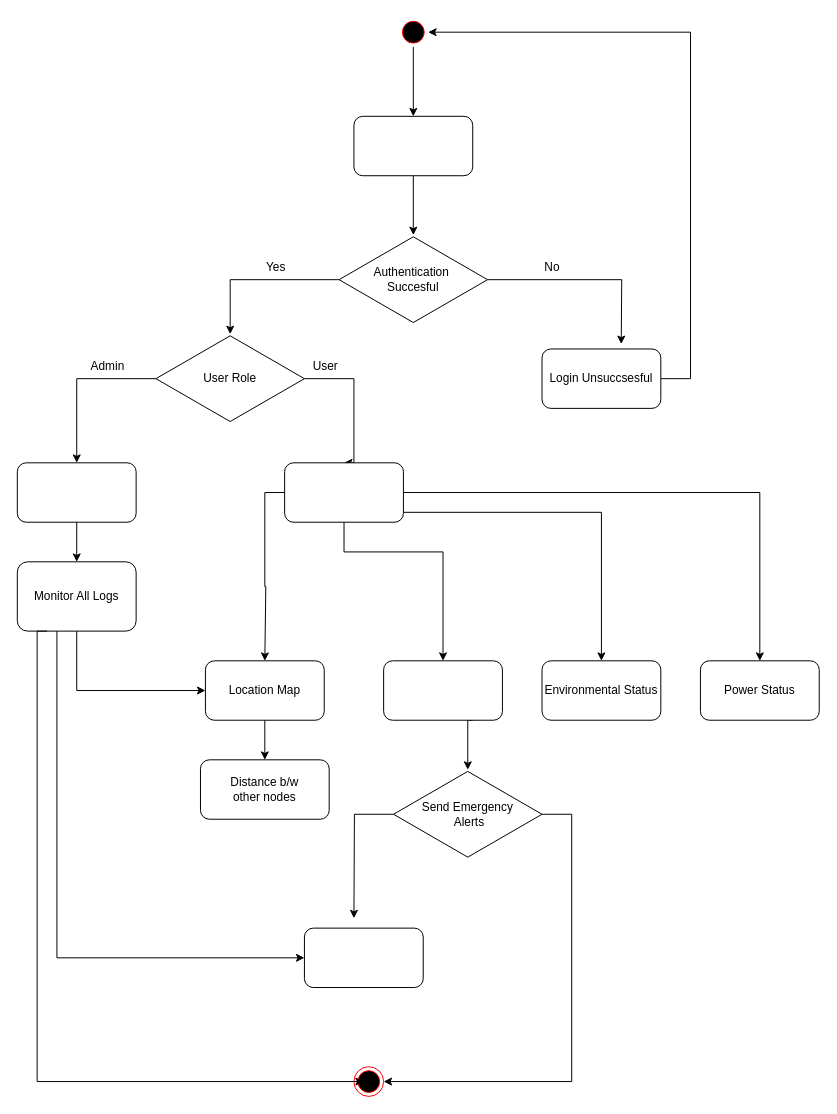
The diagram is 837 pixels wide and 1114 high, and some of its shapes have lost their labels. Each missing label, with the centre of its shape:
"Admin Dashboard" belongs at pixel 76 492.
"Emergency Alerts" belongs at pixel 442 690.
"SoS alerts to near by nodes" belongs at pixel 363 957.
"User DashBoard" belongs at pixel 343 492.
"User Login" belongs at pixel 413 145.
